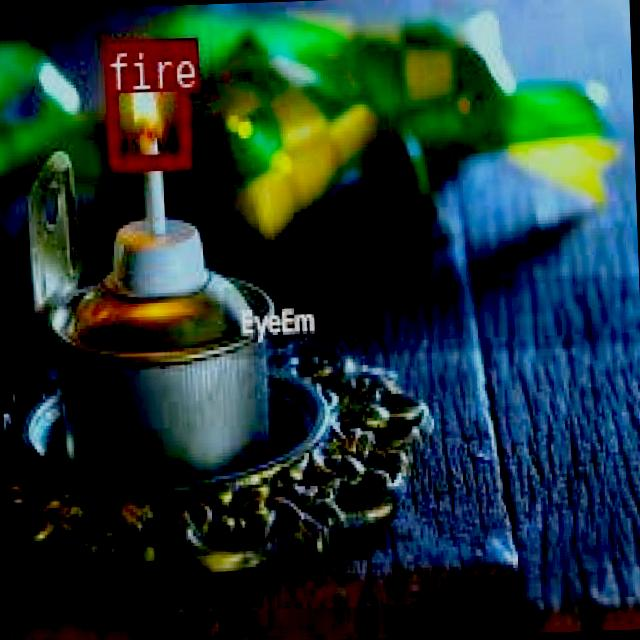fire: (103, 36, 188, 166)
